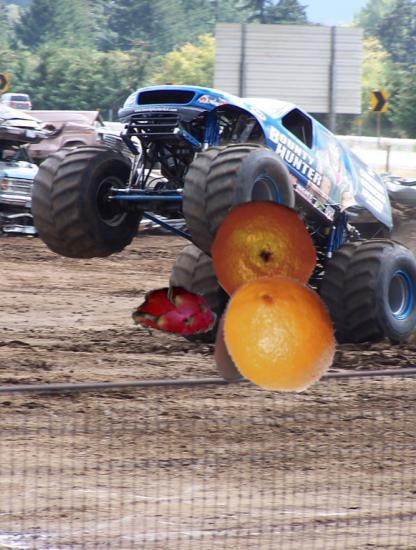Clementine: (209, 196, 321, 308)
Hazelnut: (194, 279, 301, 386)
Lemon: (220, 274, 342, 396)
Pitahaya: (132, 270, 218, 356)
